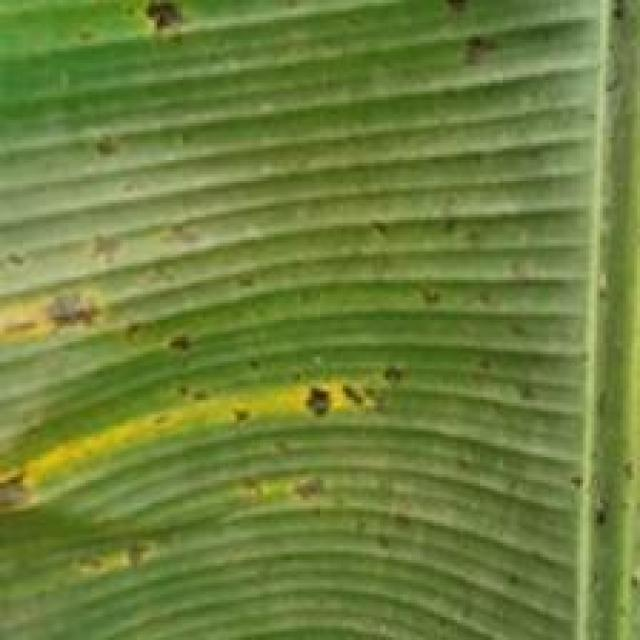Downey_mildrew: (0, 272, 439, 624), (57, 123, 181, 191), (433, 0, 505, 98), (123, 2, 209, 42)
